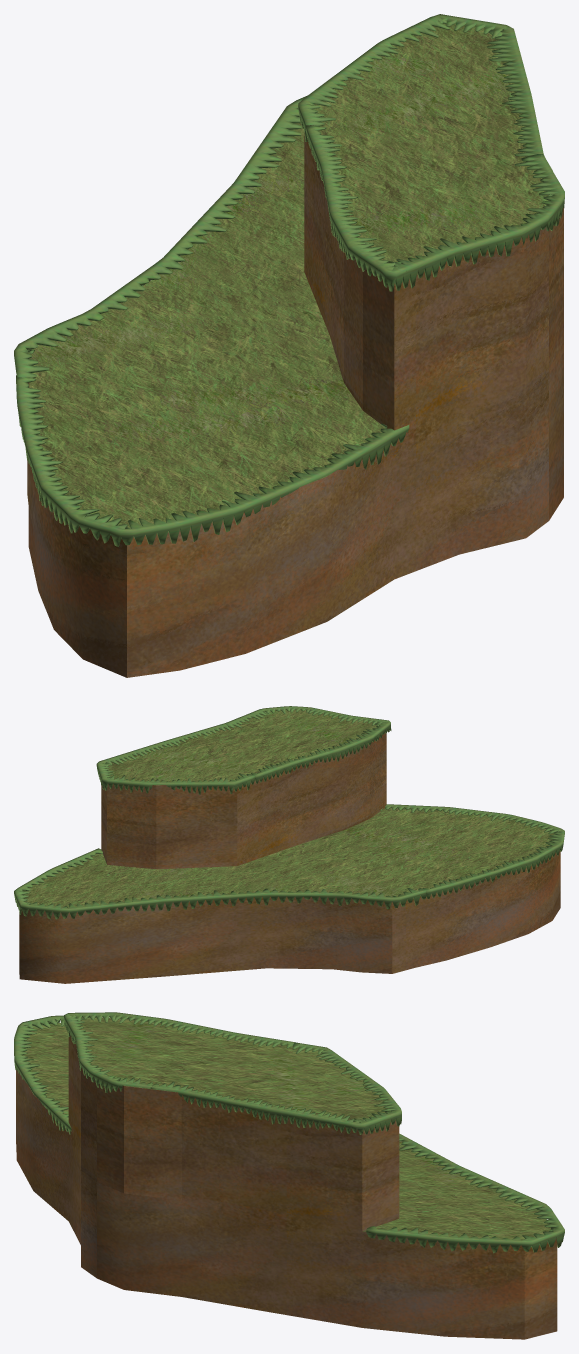
The model's file is Two_levels_01.FBX.
3 views of the same model, one above another, from view 1: azimuth 30°, elevation 25°; view 2: azimuth 150°, elevation 25°; view 3: azimuth 270°, elevation 25° (orthographic). The views are drawn at different scales.
Visible parts, largest first — view 1: Box001, Box004, Box005, Box002, Box006; view 2: Box001, Box002, Box004, Box005, Box006; view 3: Box001, Box006, Box002, Box005, Box004.
Part boxes in pixels (x1,y1,x2,y2): Box001: [27, 23, 563, 677]; Box004: [16, 375, 409, 546]; Box005: [306, 125, 564, 291]; Box002: [14, 95, 307, 378]; Box006: [298, 14, 552, 174]; Box001: [19, 709, 560, 983]; Box002: [14, 848, 427, 919]; Box004: [380, 804, 564, 898]; Box005: [225, 706, 391, 783]; Box006: [96, 717, 255, 794]; Box001: [16, 1017, 557, 1339]; Box006: [150, 1042, 401, 1134]; Box002: [366, 1133, 564, 1253]; Box005: [64, 1012, 294, 1092]; Box004: [14, 1015, 82, 1134].
Size of the model in its own units: 5.73 by 2.43 by 5.89.
